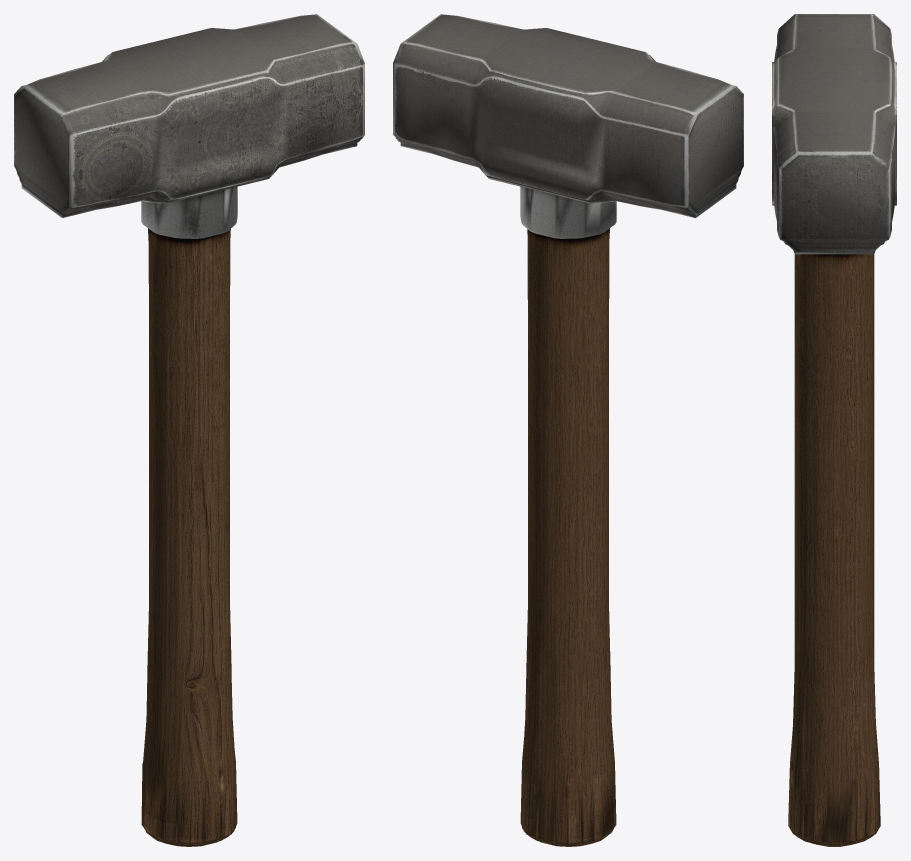
Rendered from tripo_convert_376509ef-580b-495e-b990-44409a3c0804(Palu).fbx.
3 views of the same model, side by side, from view 1: azimuth 30°, elevation 25°; view 2: azimuth 150°, elevation 25°; view 3: azimuth 270°, elevation 25° (orthographic). The views are drawn at different scales.
Parts seen in each view (by area): view 1: tripo_node_376509ef; view 2: tripo_node_376509ef; view 3: tripo_node_376509ef.
Boxes of the visible parts, box(x1,y1,x2,y2) form: tripo_node_376509ef: box(14, 14, 364, 846); tripo_node_376509ef: box(393, 14, 743, 846); tripo_node_376509ef: box(772, 14, 896, 846).
Bounding box in the file's own units: 0.4012 × 1 × 0.1507.
